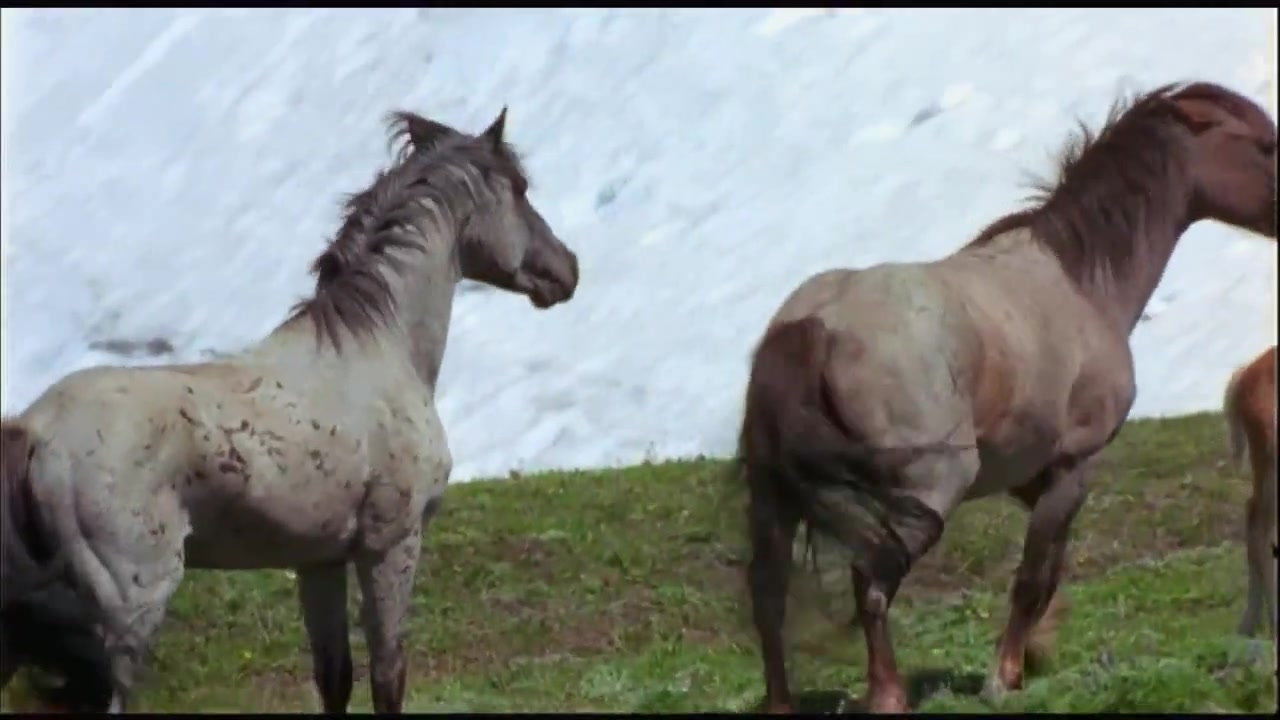horse: (1, 103, 584, 716)
